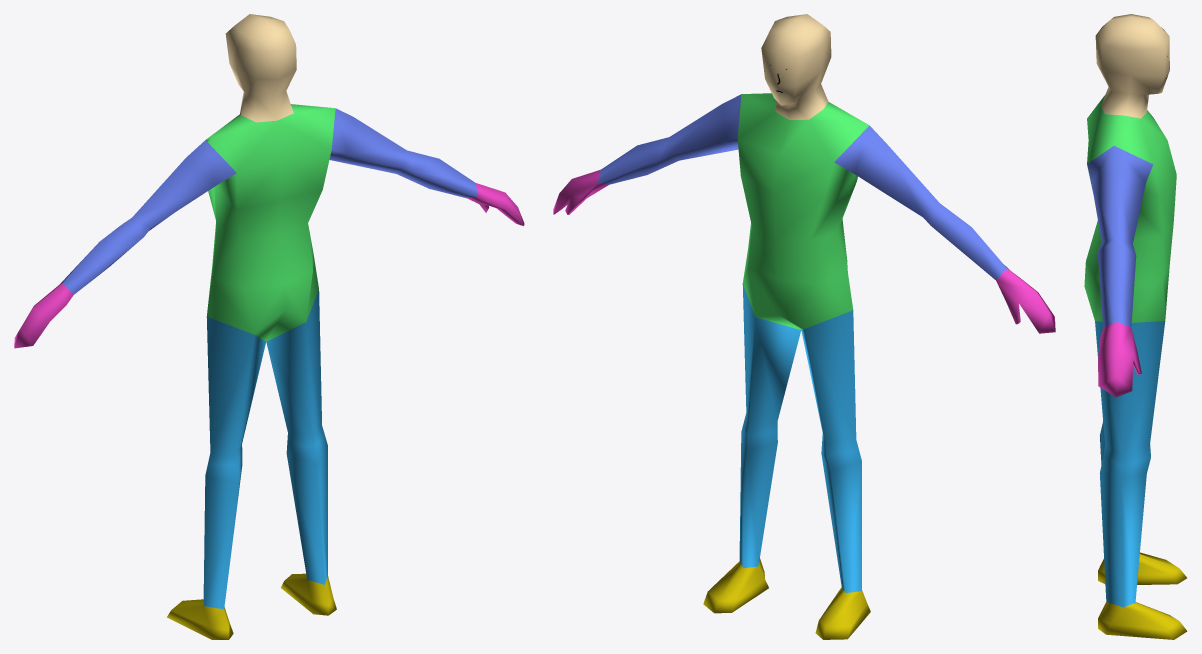
The model's file is player.glb.
3 renders of one model, left to right at view 1: azimuth 30°, elevation 25°; view 2: azimuth 150°, elevation 25°; view 3: azimuth 270°, elevation 25°, orthographic.
Visible parts, largest first — view 1: HumanoidBase_Overlapping; view 2: HumanoidBase_Overlapping; view 3: HumanoidBase_Overlapping.
Part boxes in pixels (x1,y1,x2,y2): HumanoidBase_Overlapping: (14, 14, 524, 639); HumanoidBase_Overlapping: (553, 14, 1055, 639); HumanoidBase_Overlapping: (1084, 14, 1187, 639).
Bounding box in the file's own units: 1.43 × 1.6 × 0.2547.
1 material, 1 textured.
